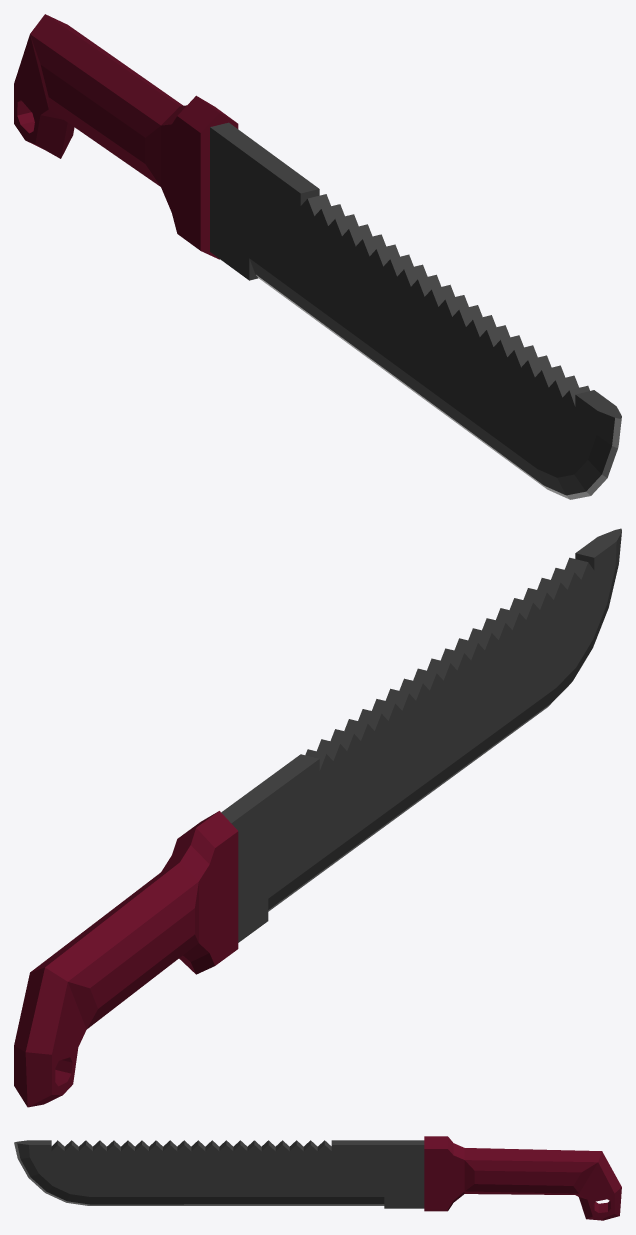
Rendered from melee_machete.glb.
The picture shows the model from 3 angles, top to bottom: view 1: azimuth 30°, elevation 25°; view 2: azimuth 150°, elevation 25°; view 3: azimuth 270°, elevation 25°; orthographic projection. The views are drawn at different scales.
Visible parts, largest first — view 1: melee_machete; view 2: melee_machete; view 3: melee_machete.
Boxes of the visible parts, box(x1,y1,x2,y2) form: melee_machete: box(14, 14, 621, 499); melee_machete: box(14, 528, 621, 1107); melee_machete: box(14, 1136, 621, 1220).
Size of the model in its own units: 0.0248 by 0.0794 by 0.5187.
